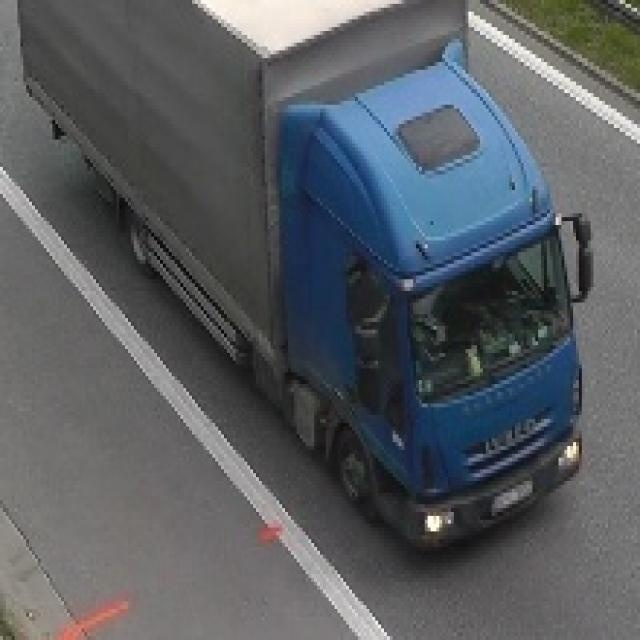Truck: (24, 0, 596, 555)
